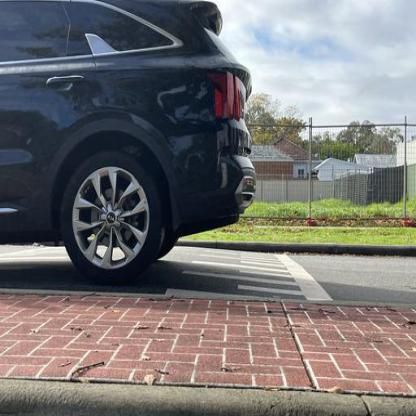Tire: (60, 152, 165, 285)
